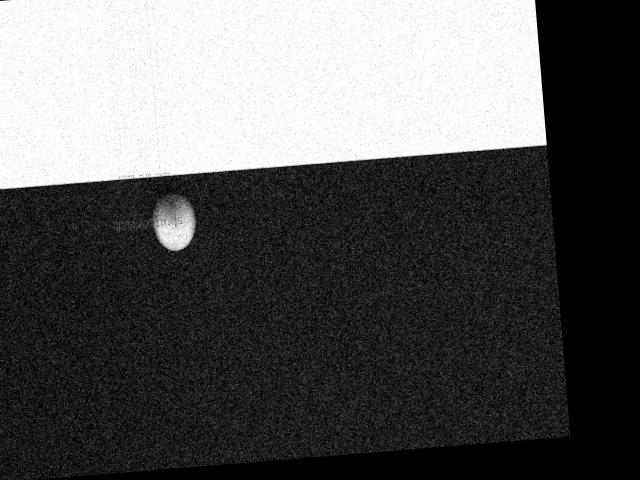egg: (151, 190, 198, 253)
